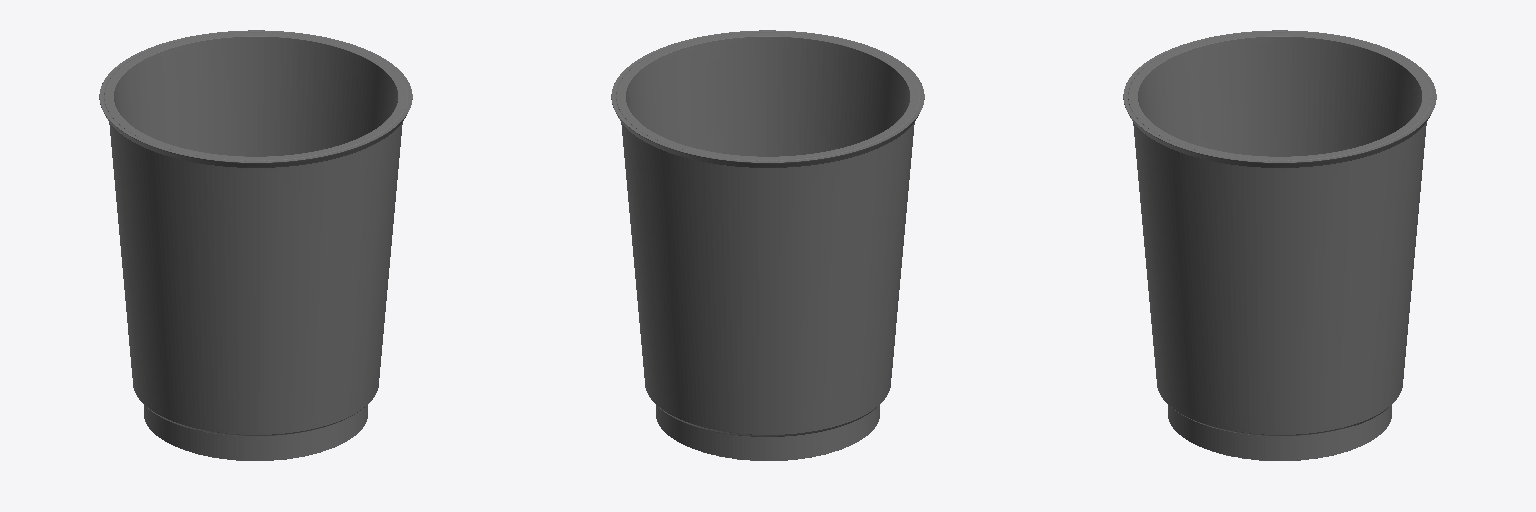
Rendered from cup.obj.
3 views of the same model, side by side, from view 1: azimuth 30°, elevation 25°; view 2: azimuth 150°, elevation 25°; view 3: azimuth 270°, elevation 25° (orthographic).
Parts seen in each view (by area): view 1: cup; view 2: cup; view 3: cup.
Boxes of the visible parts, <box> form: cup: <box>99,30,412,460</box>; cup: <box>611,30,924,460</box>; cup: <box>1123,30,1436,460</box>.
Size of the model in its own units: 10.04 by 11.28 by 10.04.